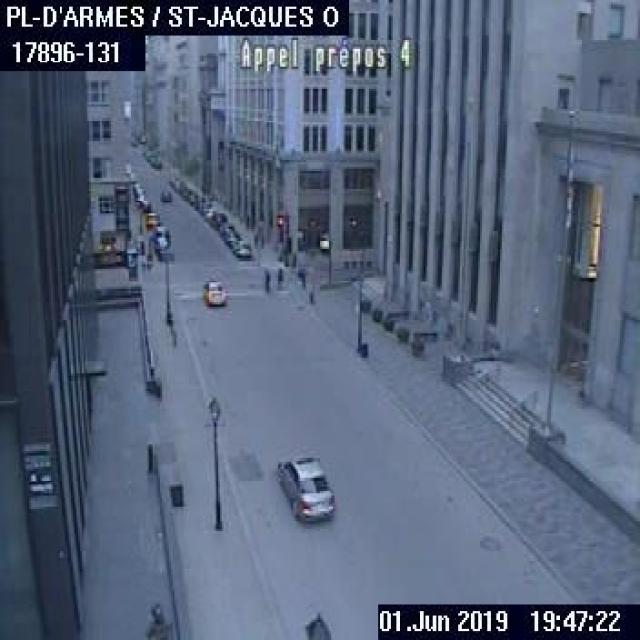pedestrian: (262, 264, 269, 292), (296, 266, 304, 286), (274, 264, 282, 282), (252, 229, 256, 247), (259, 232, 263, 248)
vehicle: (274, 452, 334, 520), (201, 278, 224, 304), (232, 238, 251, 256), (151, 224, 169, 242), (209, 210, 226, 228), (223, 230, 240, 246), (144, 211, 158, 227), (218, 222, 233, 234), (157, 188, 170, 200), (149, 156, 160, 167), (202, 208, 214, 218)
